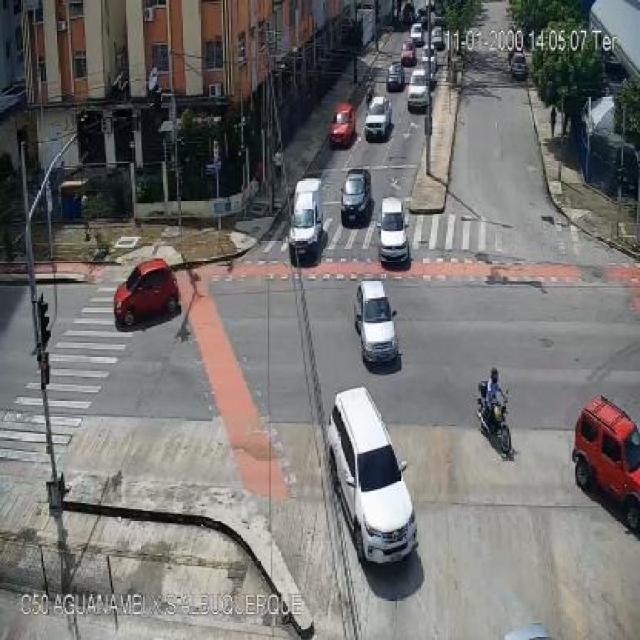Car: (327, 389, 418, 570), (571, 390, 640, 529), (112, 257, 182, 334), (352, 279, 400, 372), (378, 198, 410, 266), (339, 168, 374, 228), (365, 96, 393, 140), (329, 102, 356, 147), (404, 68, 431, 109), (384, 58, 406, 91), (400, 41, 415, 63), (409, 22, 425, 40)
Cycle: (478, 364, 516, 459)
Truck: (286, 174, 328, 261)
